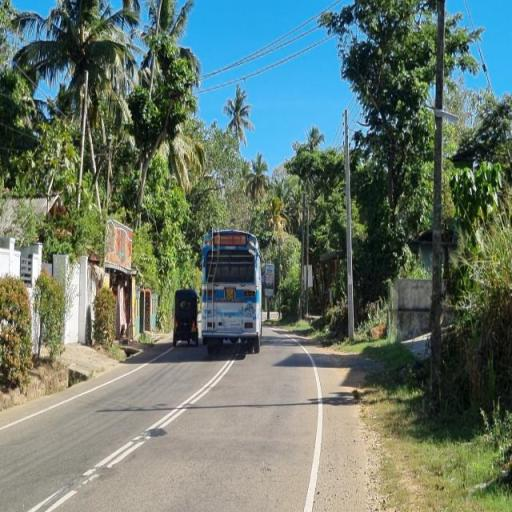double_white_line: (80, 355, 240, 488)
